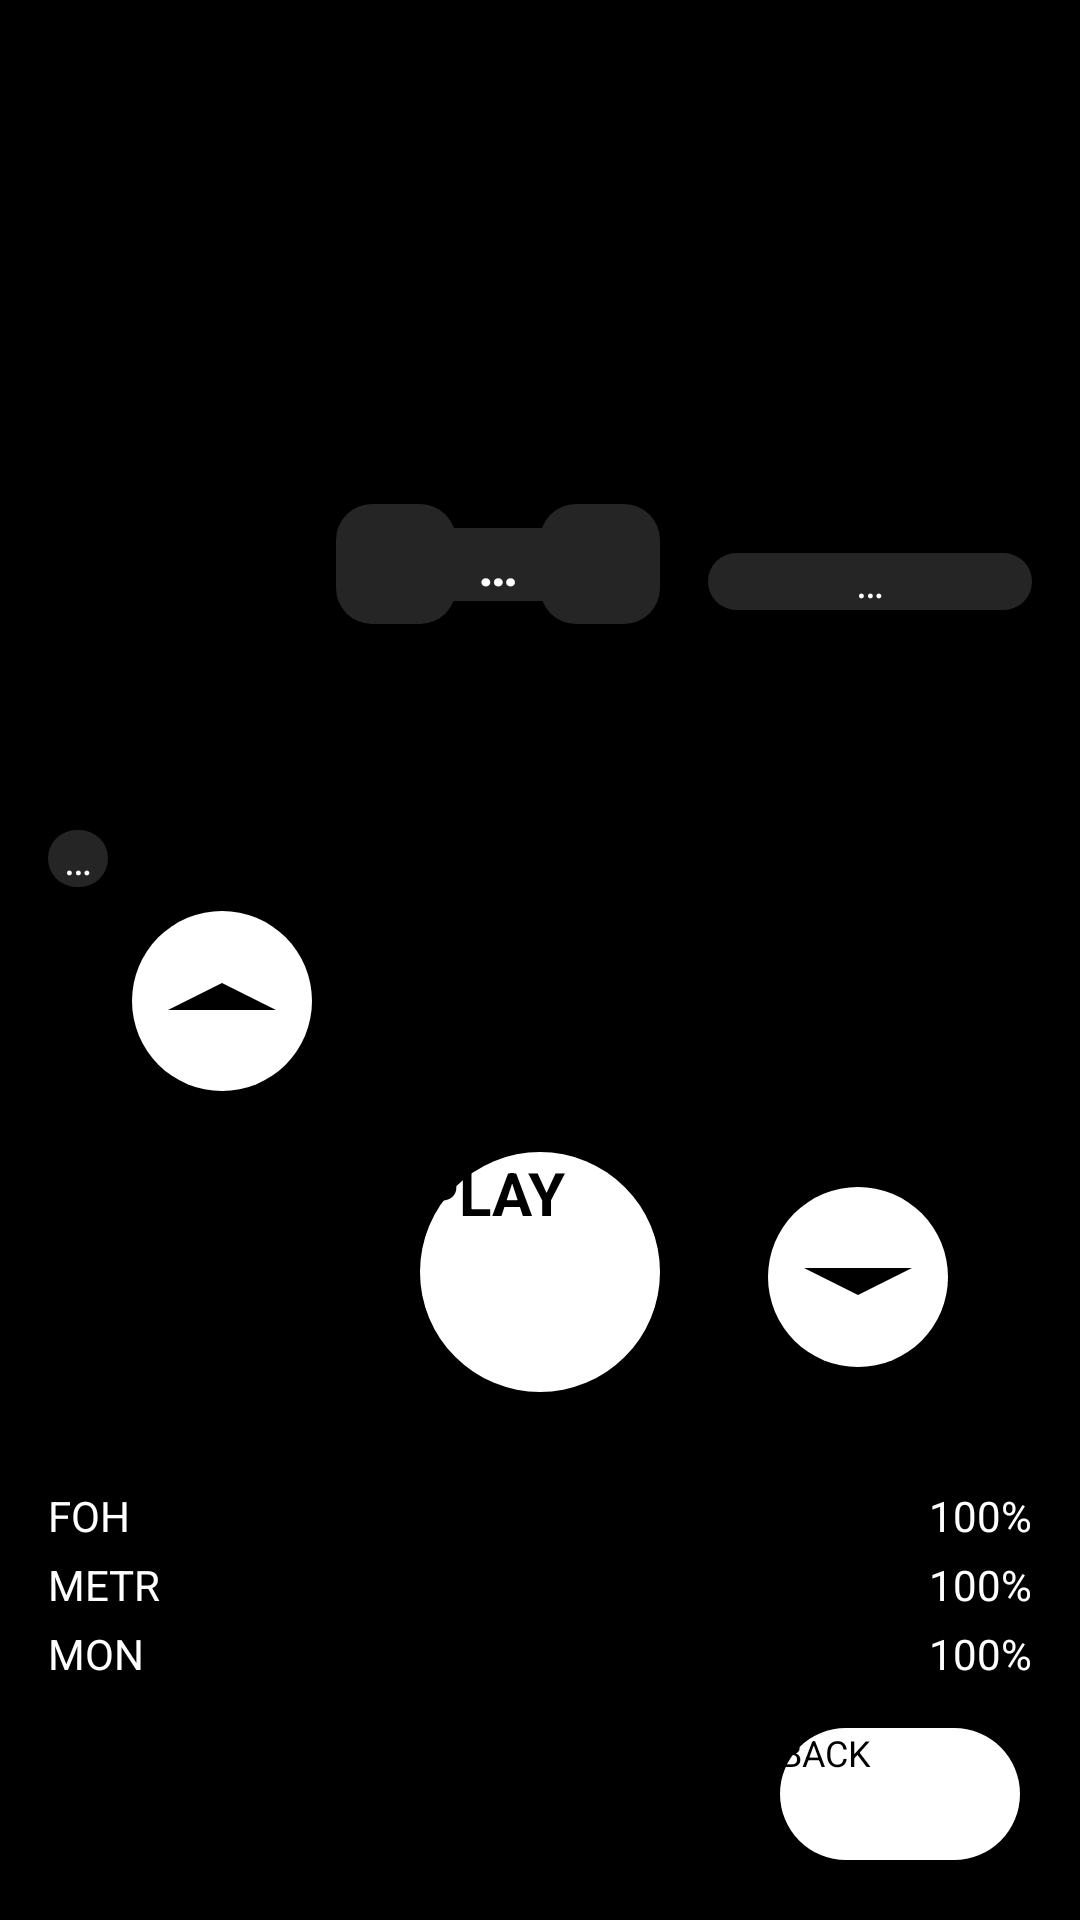

Point at icon controls on the screen. Image size 1080×1920, points as [x,y].
arrow down: [858,1277]
arrow up: [222,1001]
